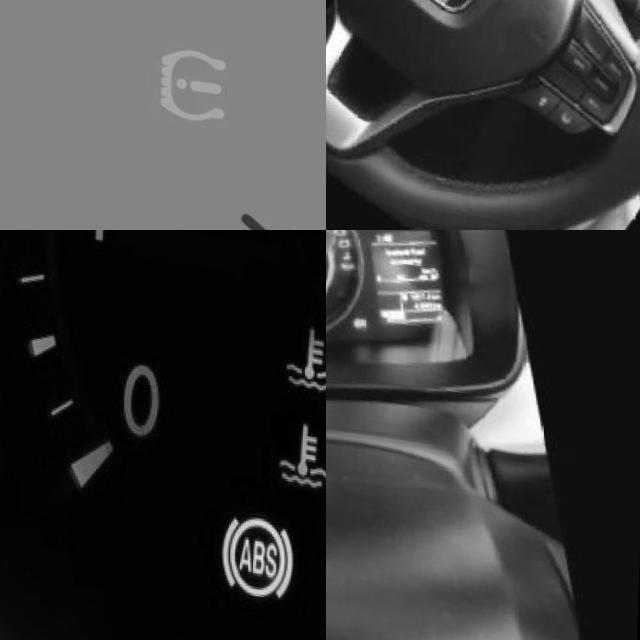Engine cooling system: (275, 402, 326, 485)
High Engine Coolant Temperature: (337, 244, 350, 257)
